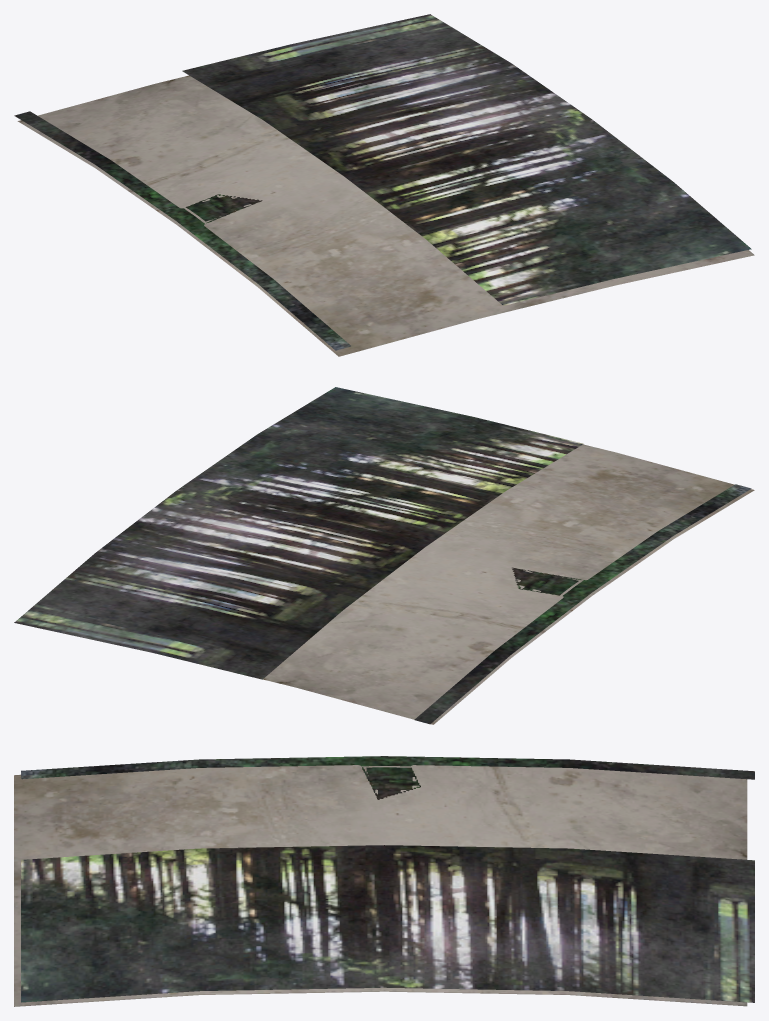
Rendered from 04_02_lindwall_photos03.dae.
3 views of the same model, one above another, from view 1: azimuth 30°, elevation 25°; view 2: azimuth 150°, elevation 25°; view 3: azimuth 270°, elevation 25° (orthographic). The views are drawn at different scales.
Visible parts, largest first — view 1: photograph_world01; view 2: photograph_world01; view 3: photograph_world01.
Boxes of the visible parts, x1,y1,x2,y2 form: photograph_world01: (14,14,754,356); photograph_world01: (14,387,754,724); photograph_world01: (14,756,754,1006).
Bounding box in the file's own units: 0.1526 × 0.0072 × 0.2062.
